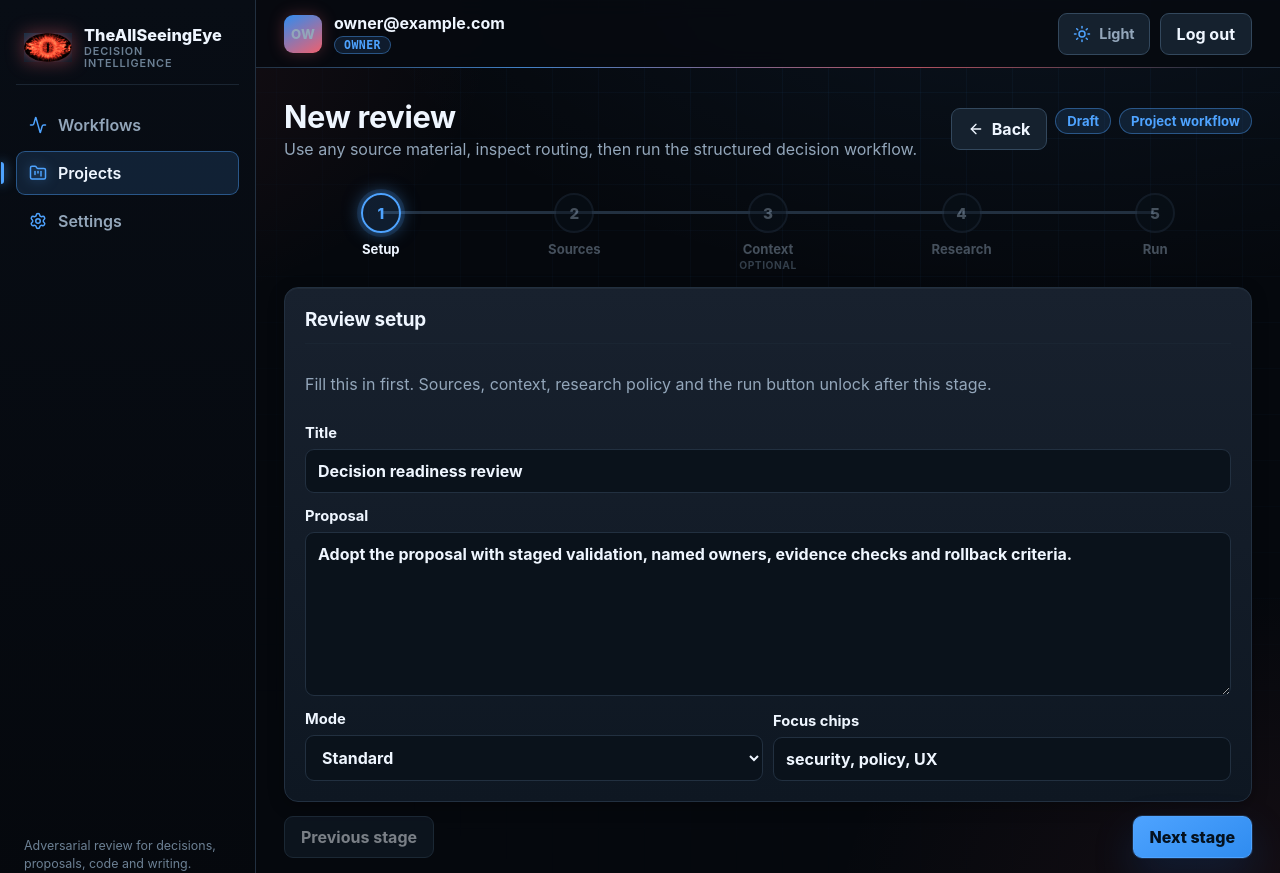
Scenario: new review context packs › prevents context form submission and shows save errors
The width and height of the screenshot is (1280, 873).
Step 1. Click the button "Next stage" → (1192, 837), box left=1132, top=816, right=1252, bottom=858
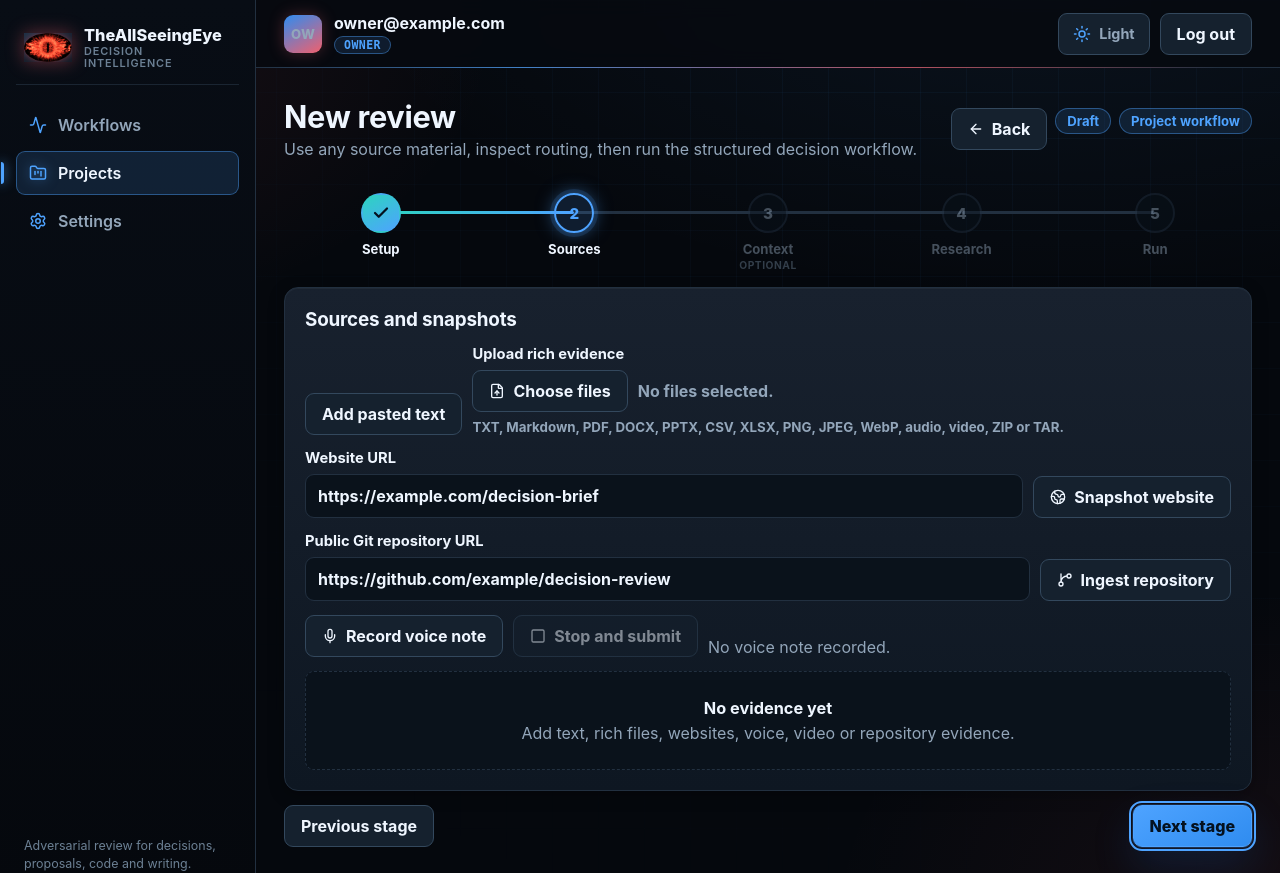
Step 2. Click the button "Next stage" → (1192, 826), box left=1132, top=805, right=1252, bottom=847
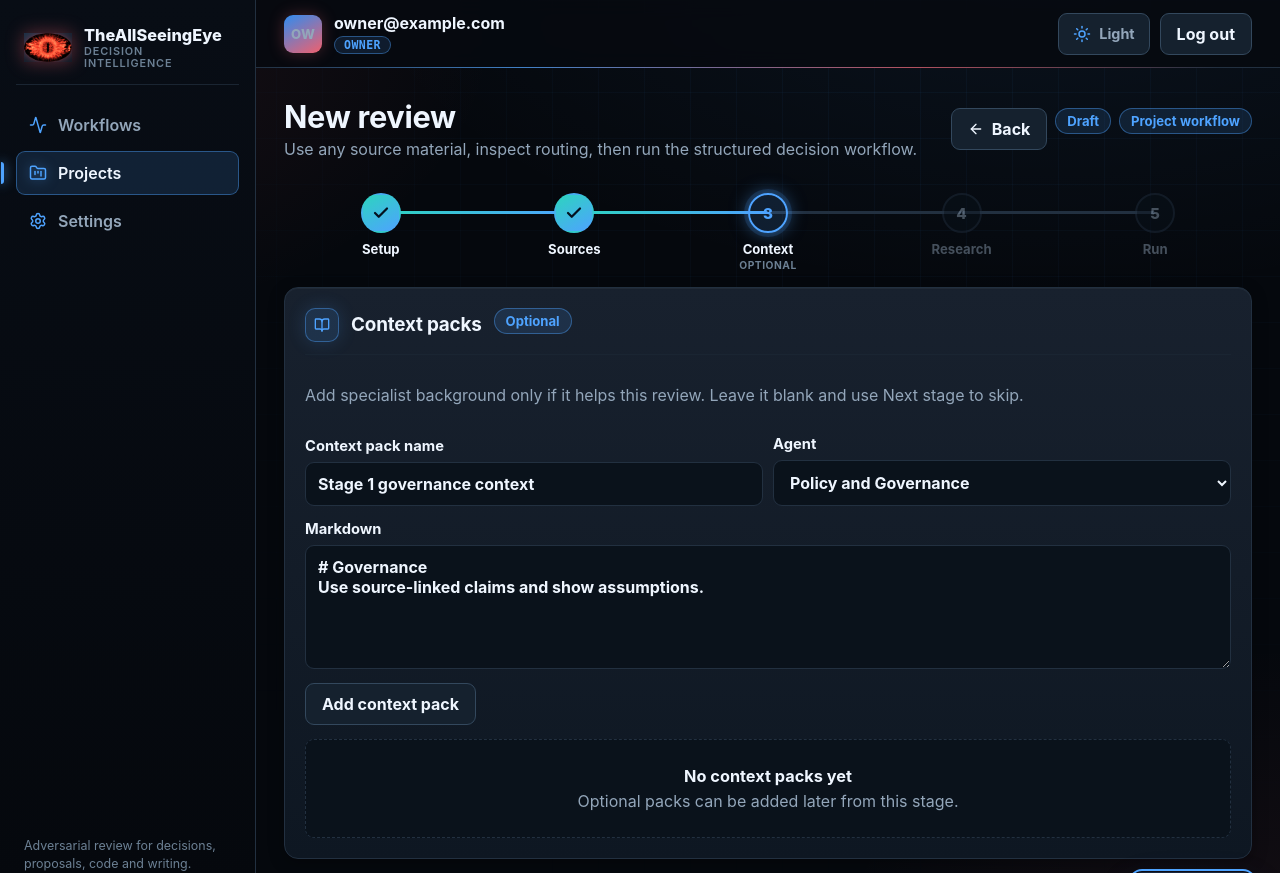
Step 3. Submit the form "Context packs", box left=284, top=287, right=1252, bottom=859
Expected: the heading "New review" is shown, left=284, top=98, right=456, bottom=135
Step 4. Click the button "Add context pack" → (390, 704), box left=305, top=683, right=476, bottom=725
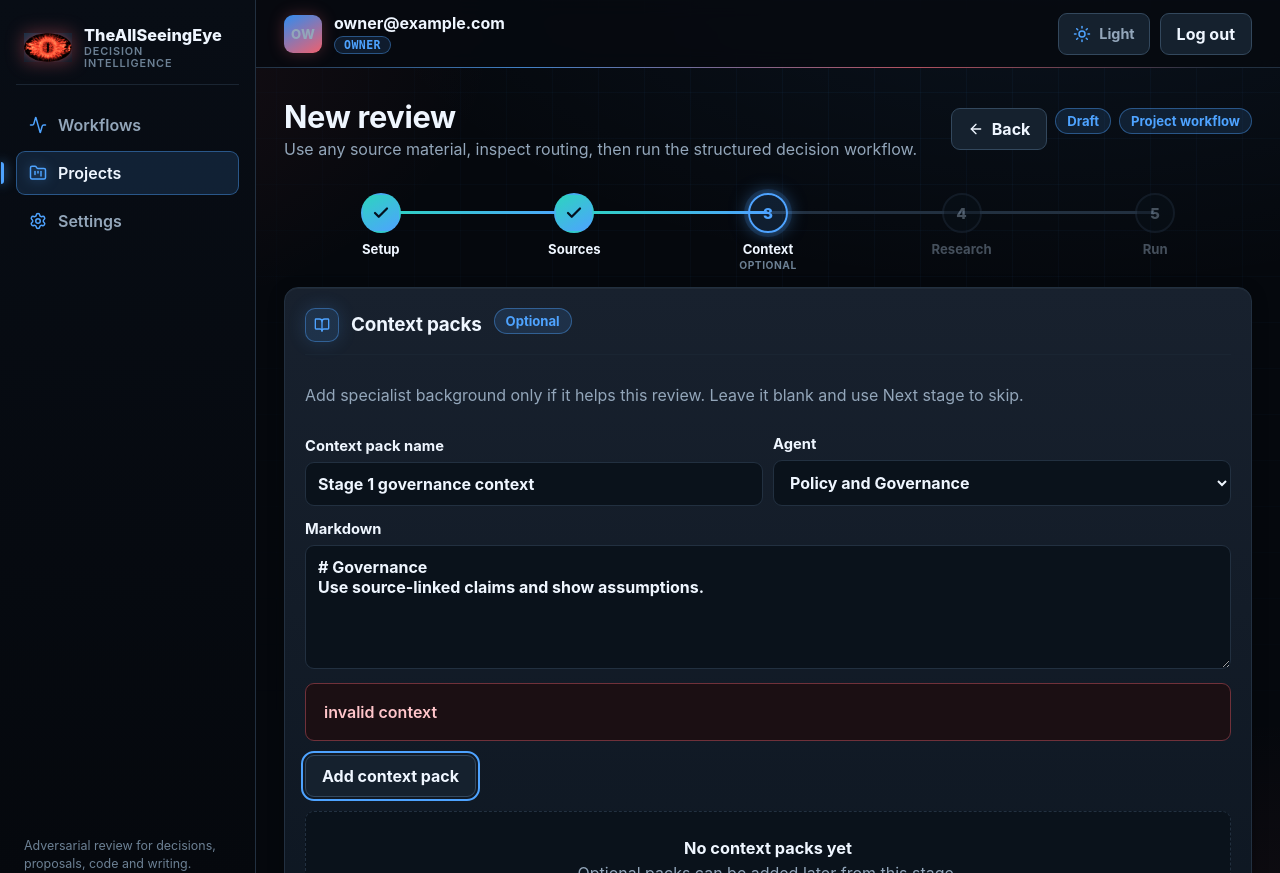
Expected: the message "invalid context" is shown, left=305, top=683, right=1231, bottom=741
